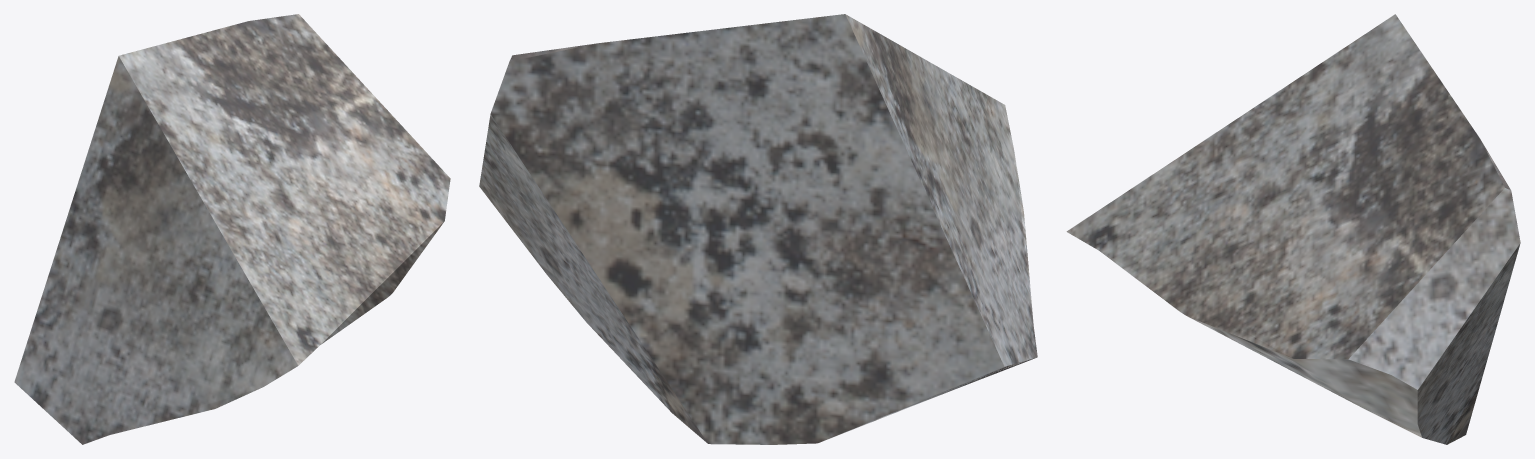
Rendered from Asteroid_Large_001_02_001_03_017.fbx.
3 views of the same model, side by side, from view 1: azimuth 30°, elevation 25°; view 2: azimuth 150°, elevation 25°; view 3: azimuth 270°, elevation 25° (orthographic). The views are drawn at different scales.
Visible parts, largest first — view 1: Asteroid_Large_001_02_001_03_017; view 2: Asteroid_Large_001_02_001_03_017; view 3: Asteroid_Large_001_02_001_03_017.
Part boxes in pixels (x1,y1,x2,y2): Asteroid_Large_001_02_001_03_017: (14, 14, 450, 444); Asteroid_Large_001_02_001_03_017: (479, 14, 1037, 444); Asteroid_Large_001_02_001_03_017: (1066, 14, 1520, 444).
Size of the model in its own units: 8.23 by 6.67 by 7.26.
